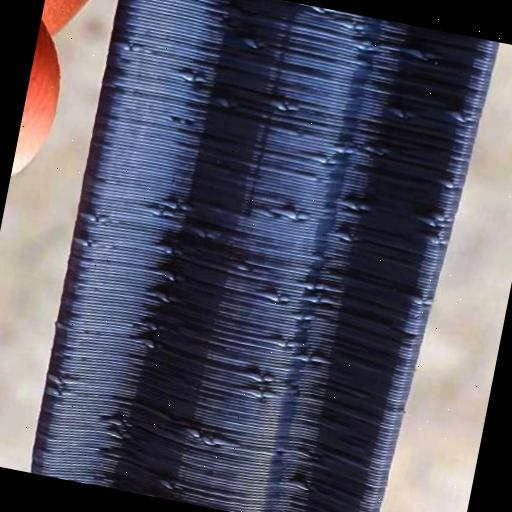blobs: (412, 204, 447, 234), (349, 30, 385, 56), (340, 196, 372, 220), (432, 172, 458, 198), (174, 63, 202, 86), (157, 262, 182, 287), (273, 95, 300, 117), (259, 286, 284, 307), (310, 349, 331, 374), (446, 104, 472, 124), (271, 332, 292, 356), (286, 476, 314, 494), (333, 229, 357, 250), (312, 151, 336, 172), (100, 427, 126, 446), (279, 204, 305, 223), (154, 238, 176, 260), (256, 386, 278, 408), (240, 32, 262, 54), (118, 38, 140, 60), (370, 142, 392, 164), (384, 104, 408, 124), (104, 413, 129, 432), (248, 382, 269, 404), (158, 474, 179, 496), (138, 201, 162, 220), (86, 209, 110, 228), (184, 420, 206, 440), (150, 286, 172, 306), (206, 434, 230, 452), (212, 98, 238, 114), (329, 140, 352, 158), (292, 346, 312, 366), (137, 338, 162, 354), (294, 308, 316, 326), (164, 194, 184, 213), (410, 289, 430, 308), (244, 367, 266, 384), (260, 369, 280, 387), (141, 319, 165, 334), (303, 294, 323, 308), (303, 278, 322, 292)
